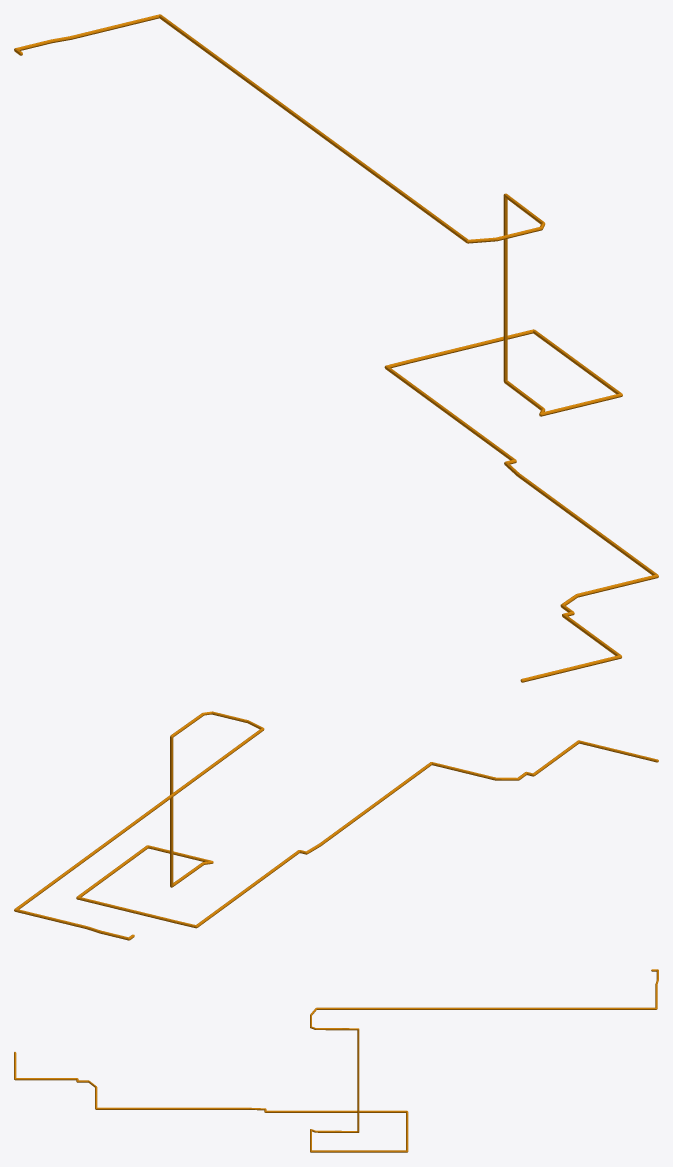
3 renders of one model, top to bottom at view 1: azimuth 30°, elevation 25°; view 2: azimuth 150°, elevation 25°; view 3: azimuth 270°, elevation 25°, orthographic. The views are drawn at different scales.
Size of the model in its own units: 2081 by 1020 by 5692.
